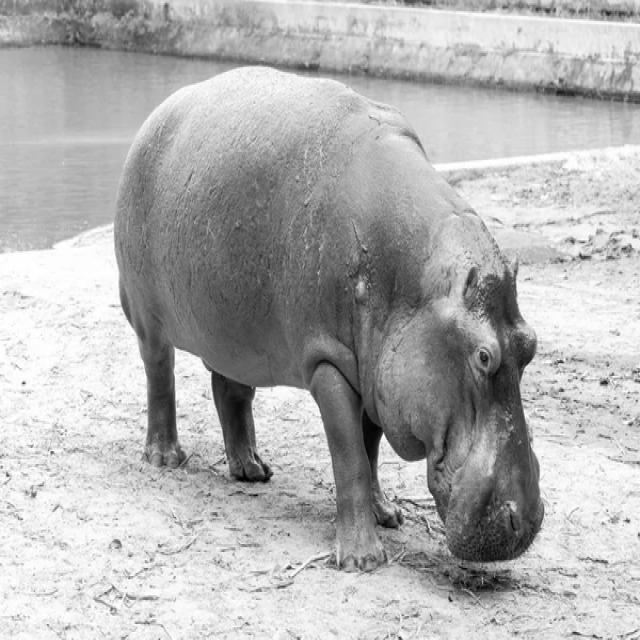Animal: (114, 66, 545, 571)
